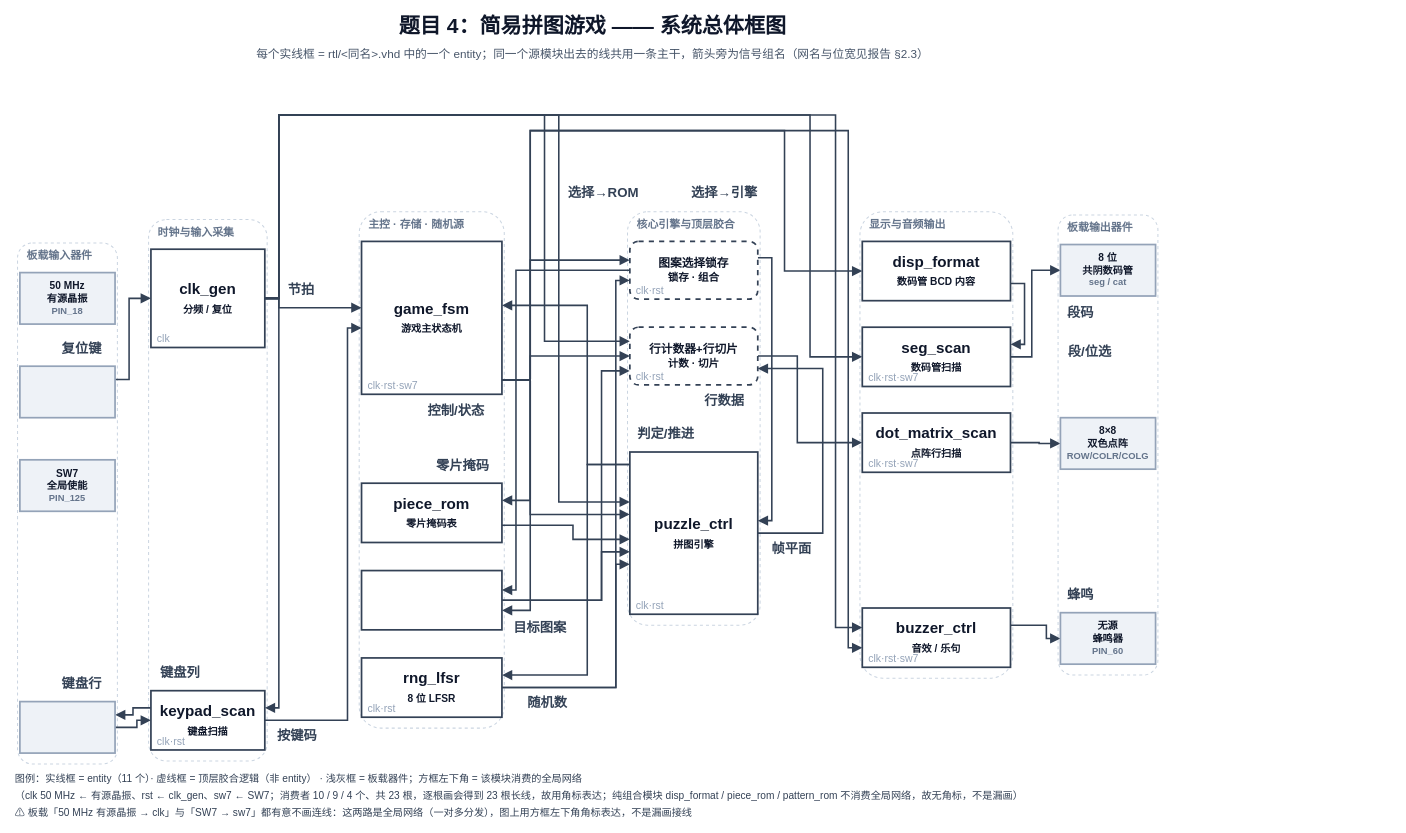
This 1406x833 diagram has some shape labels left out. Here are the shapes that lost their labels. From the top down, the centre of each, then its label:
the point at 67,391: BTN0 复位按键 PIN_61
the point at 431,599: pattern_rom 目标图案库
the point at 67,727: 4×4 矩阵键盘 kp_row / kp_col
